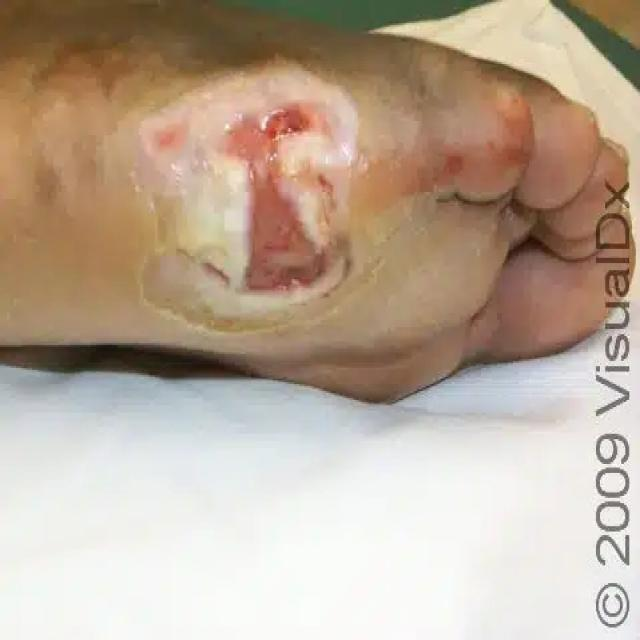stage-3: (218, 108, 325, 292)
